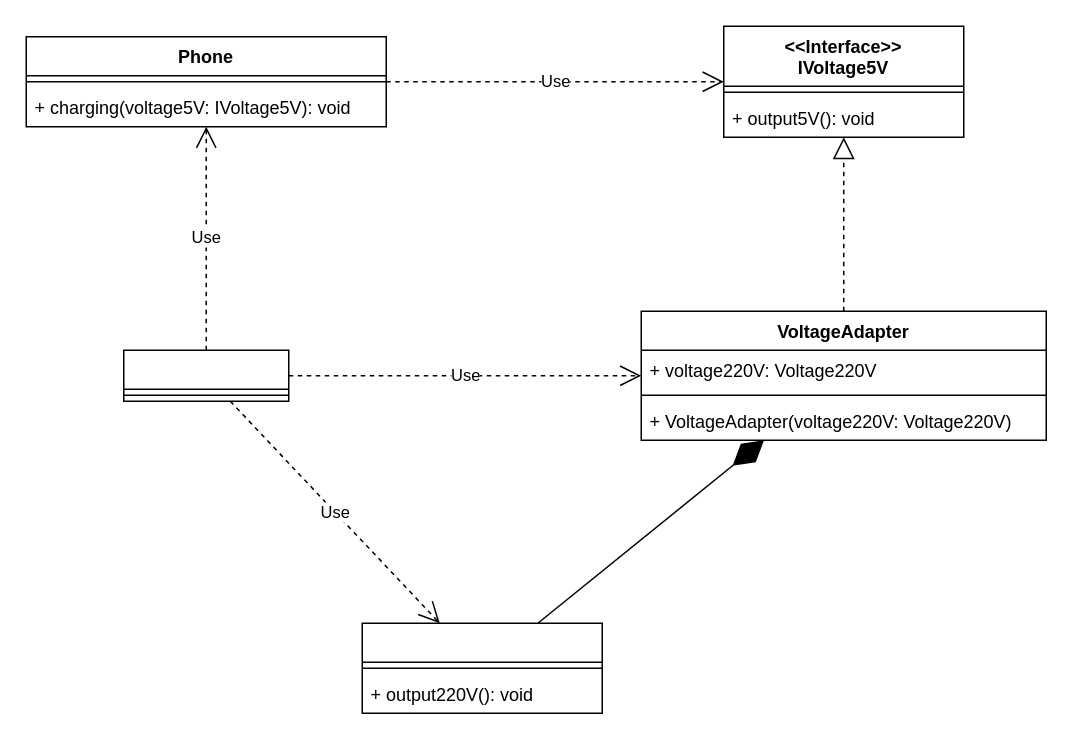
Image size: 1073x744. Some labels were removed from this diagram. Each missing label, with the box of its shape:
Client: (122, 349, 289, 401)
Voltage220V: (361, 622, 602, 713)
